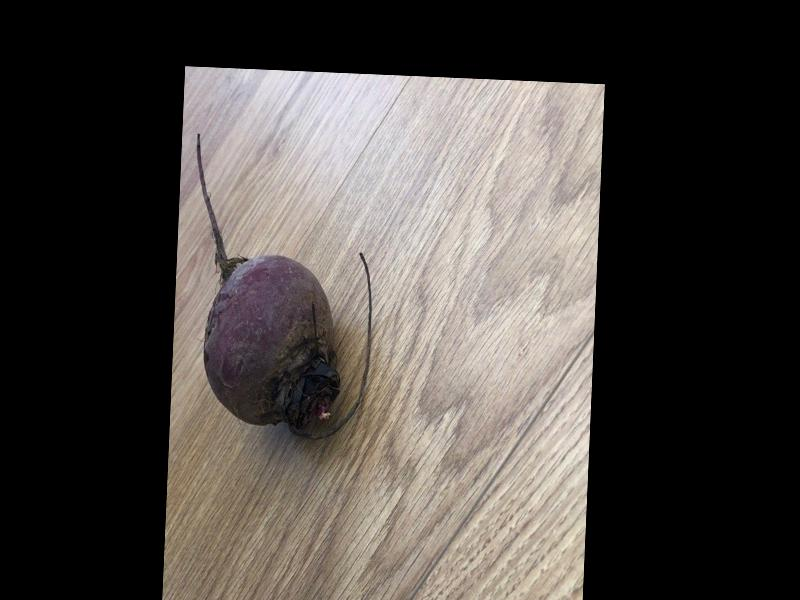Beet: (184, 132, 379, 438)
